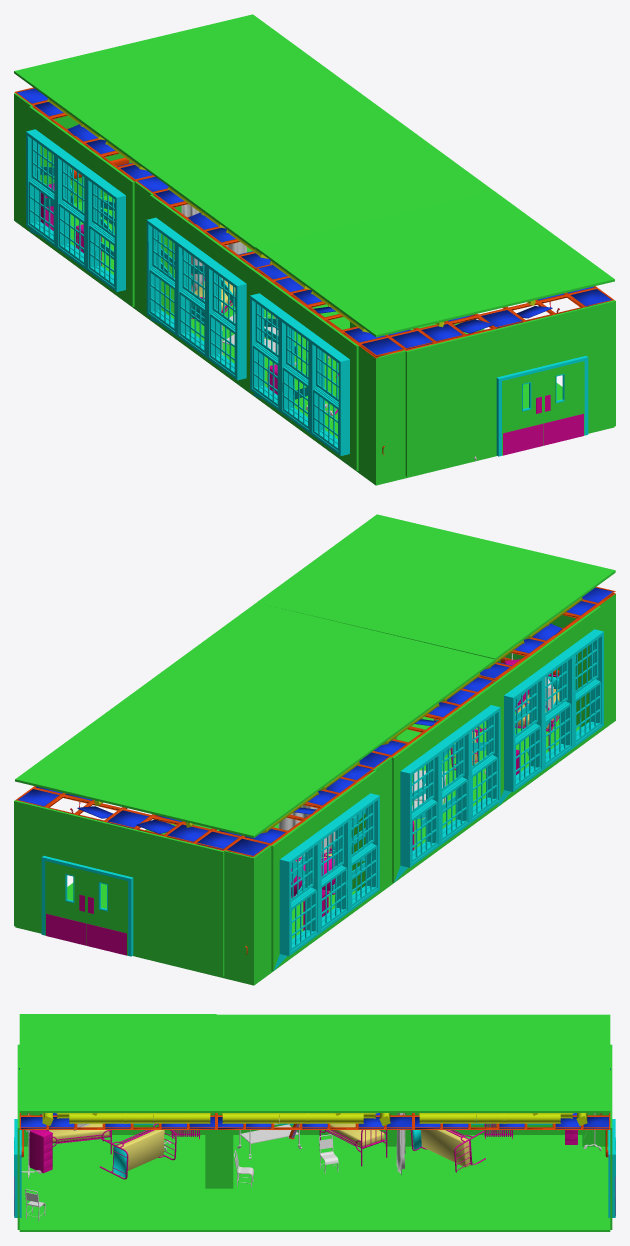
File: TO_Jam_Hallway_Large_Var1.fbx
The picture shows the model from 3 angles, top to bottom: view 1: azimuth 30°, elevation 25°; view 2: azimuth 150°, elevation 25°; view 3: azimuth 270°, elevation 25°; orthographic projection. The views are drawn at different scales.
Parts seen in each view (by area): view 1: ICU_RoofSet_1_7/8U.004, ICU_RoofSet_1_7/8U.008, ICU_RoofSet_1_7/8U.007, ICU_WindowSet_Large_6U_.003, ICU_WindowSet_Large_6U_.001, ICU_WindowSet_Large_6U_.002, ICU_WallSet_3_3U_.010, ICU_PillarSet_Large_1U_.002, ICU_DoorwaySet_Double_3U_.004, ICU_WallSet_1_1U_.017, ICU_DoorSet_DoubleDoorR_3U_.007, ICU_DoorSet_DoubleDoorR_3U_.008 (+5 smaller); view 2: ICU_RoofSet_1_7/8U.008, ICU_RoofSet_1_7/8U.004, ICU_RoofSet_1_7/8U.007, ICU_WindowSet_Large_6U_.002, ICU_WindowSet_Large_6U_.003, ICU_WindowSet_Large_6U_.001, ICU_WallSet_3_3U_.009, ICU_PillarSet_Large_1U_.003, ICU_DoorwaySet_Double_3U_.003, ICU_WallSet_1_1U_.022, ICU_DoorSet_DoubleDoorR_3U_.005, ICU_DoorSet_DoubleDoorR_3U_.006 (+4 smaller); view 3: ICU_RoofSet_1_7/8U.004, ICU_RoofSet_1_7/8U.008, ICU_RoofSet_1_7/8U.007, ICU_FloorSet_1_7/8U_.008, ICU_FloorSet_1_7/8U_.007, ICU_FloorSet_1_7/8U_.004, ICU_FurnSet_HBed_Norm_.012, ICU_PillarSet_Large_1U_.005, ICU_FurnSet_HBed_Norm_.011, ICU_FurnSet_HBed_Norm_.010, ICU_FurnSet_FilingCabinet_Large_.003, ICU_FurnSet_HBed_Norm_.009 (+12 smaller).
Boxes of the visible parts, x1,y1,x2,y2 form: ICU_RoofSet_1_7/8U.004: (255, 191, 614, 358); ICU_RoofSet_1_7/8U.008: (14, 14, 372, 181); ICU_RoofSet_1_7/8U.007: (134, 102, 493, 269); ICU_WindowSet_Large_6U_.003: (26, 106, 134, 307); ICU_WindowSet_Large_6U_.001: (250, 270, 358, 471); ICU_WindowSet_Large_6U_.002: (146, 194, 254, 394); ICU_WallSet_3_3U_.010: (405, 329, 496, 476); ICU_PillarSet_Large_1U_.002: (358, 346, 405, 483); ICU_DoorwaySet_Double_3U_.004: (496, 307, 588, 456); ICU_WallSet_1_1U_.017: (585, 300, 615, 432); ICU_DoorSet_DoubleDoorR_3U_.007: (543, 361, 584, 445); ICU_DoorSet_DoubleDoorR_3U_.008: (502, 371, 543, 455); ICU_RoofSet_1_7/8U.008: (15, 691, 374, 857); ICU_RoofSet_1_7/8U.004: (257, 514, 615, 681); ICU_RoofSet_1_7/8U.007: (136, 602, 495, 768); ICU_WindowSet_Large_6U_.002: (392, 682, 500, 882); ICU_WindowSet_Large_6U_.003: (271, 770, 379, 971); ICU_WindowSet_Large_6U_.001: (495, 606, 603, 806); ICU_WallSet_3_3U_.009: (133, 829, 224, 976); ICU_PillarSet_Large_1U_.003: (224, 845, 271, 983); ICU_DoorwaySet_Double_3U_.003: (41, 807, 133, 956); ICU_WallSet_1_1U_.022: (14, 800, 44, 932); ICU_DoorSet_DoubleDoorR_3U_.005: (45, 861, 86, 945); ICU_DoorSet_DoubleDoorR_3U_.006: (86, 871, 127, 955); ICU_RoofSet_1_7/8U.004: (19, 1014, 216, 1129); ICU_RoofSet_1_7/8U.008: (390, 1014, 610, 1129); ICU_RoofSet_1_7/8U.007: (216, 1014, 413, 1129); ICU_FloorSet_1_7/8U_.008: (413, 1135, 610, 1231); ICU_FloorSet_1_7/8U_.007: (216, 1135, 413, 1231); ICU_FloorSet_1_7/8U_.004: (19, 1135, 216, 1231); ICU_FurnSet_HBed_Norm_.012: (99, 1121, 176, 1179); ICU_PillarSet_Large_1U_.005: (205, 1113, 233, 1188); ICU_FurnSet_HBed_Norm_.011: (410, 1130, 485, 1172); ICU_FurnSet_HBed_Norm_.010: (319, 1123, 387, 1166); ICU_FurnSet_FilingCabinet_Large_.003: (29, 1130, 52, 1173); ICU_FurnSet_HBed_Norm_.009: (40, 1114, 111, 1154).
Bounding box in the file's own units: 840 × 487 × 2140.
